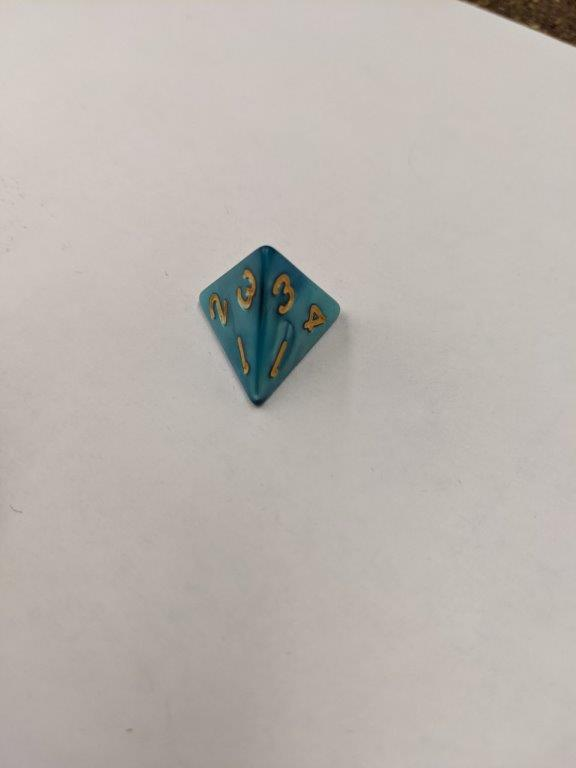d4-3: (197, 243, 343, 407)
